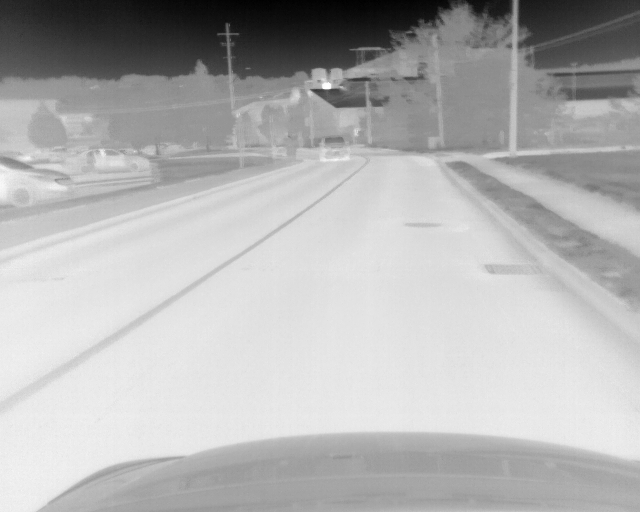car: (1, 149, 74, 208), (82, 147, 148, 174), (18, 149, 76, 174), (318, 134, 350, 162)
